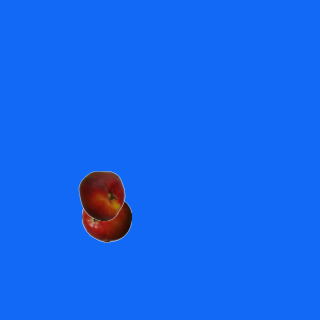Apple Braeburn: (81, 192, 131, 242)
Nectarine Flat: (76, 170, 126, 220)
